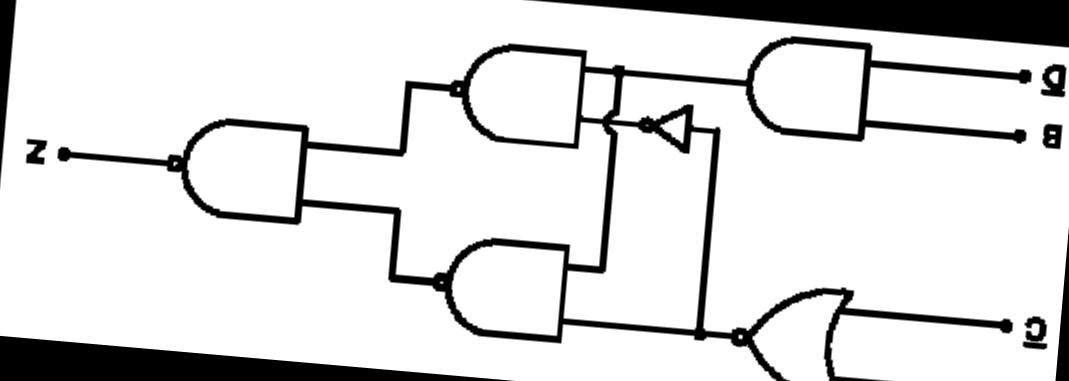and: (725, 20, 893, 162)
nand: (149, 90, 333, 244), (424, 17, 606, 164), (416, 218, 590, 358)
nor: (711, 269, 860, 381)
not: (622, 86, 708, 166)
